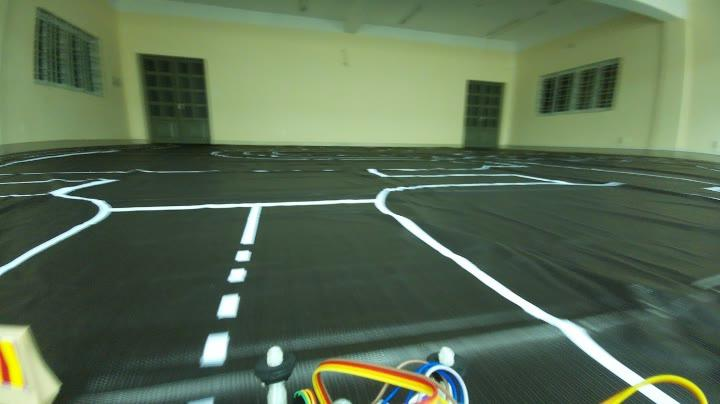roadblock: (0, 321, 58, 404)
